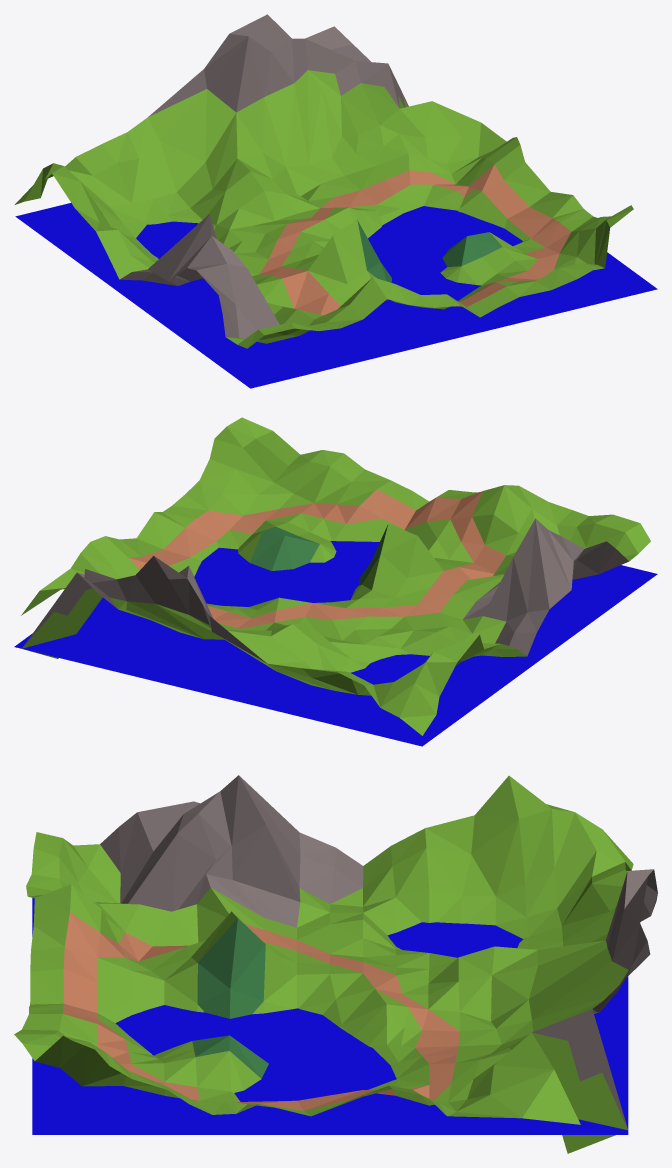
Rendered from chunk00_00.glb.
3 renders of one model, top to bottom at view 1: azimuth 30°, elevation 25°; view 2: azimuth 150°, elevation 25°; view 3: azimuth 270°, elevation 25°, orthographic. The views are drawn at different scales.
Visible parts, largest first — view 1: LOD0, Water; view 2: LOD0, Water; view 3: LOD0, Water.
Part boxes in pixels (x1,y1,x2,y2): LOD0: (15,14,633,348); Water: (15,203,657,388); LOD0: (21,417,650,735); Water: (14,541,657,746); LOD0: (14,775,657,1153); Water: (32,898,628,1134).
Bounding box in the file's own units: 266 × 92.41 × 270.
Materials: 2 (1 with a texture image).
